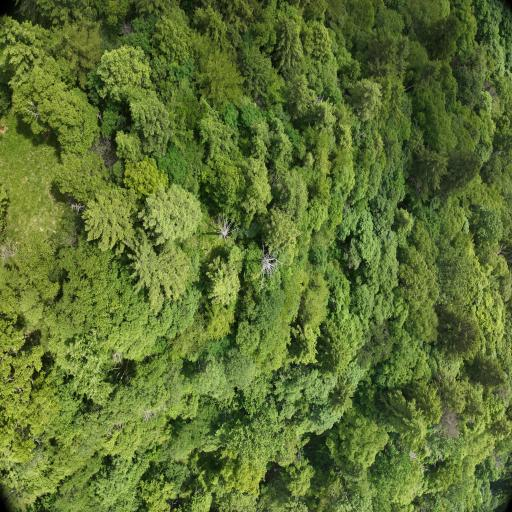dead-tree: (254, 240, 292, 282), (212, 209, 239, 244)
sick-tree: (435, 404, 462, 439), (491, 449, 505, 474)
